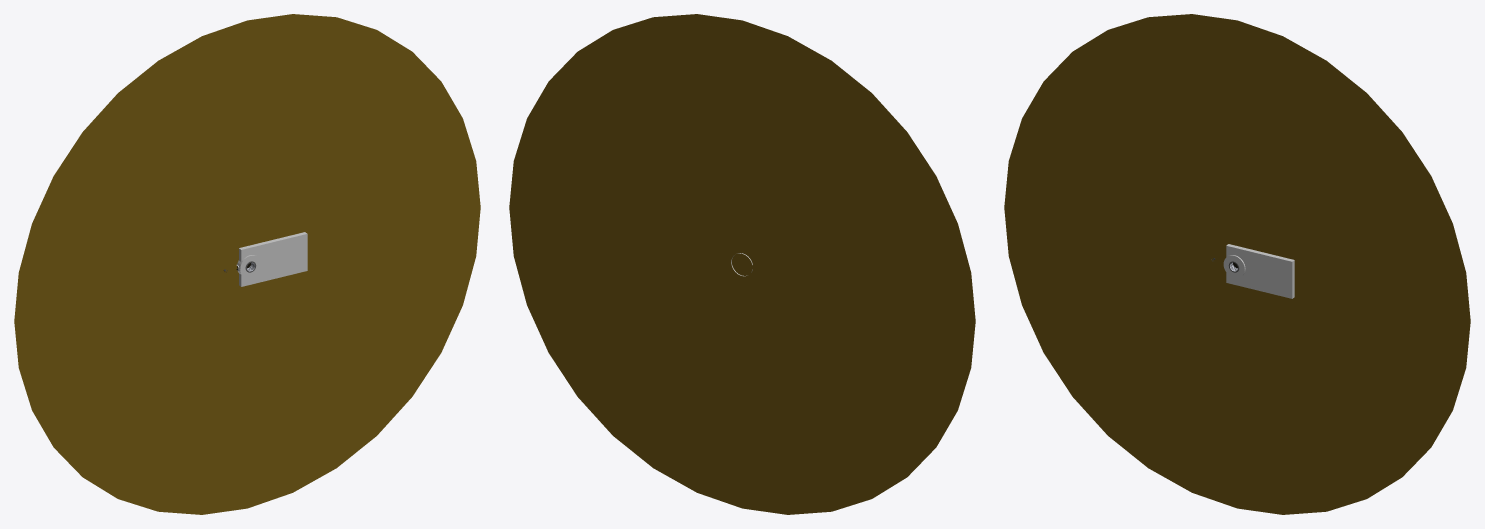
Rendered from lobby.obj.
The picture shows the model from 3 angles, left to right: view 1: azimuth 30°, elevation 25°; view 2: azimuth 150°, elevation 25°; view 3: azimuth 330°, elevation 25°; orthographic projection.
Visible parts, largest first — view 1: Circle, Cube.001; view 2: Circle; view 3: Circle, Cube.001.
Part boxes in pixels (x1,y1,x2,y2): Circle: [14, 14, 480, 514]; Cube.001: [237, 232, 307, 286]; Circle: [509, 14, 975, 514]; Circle: [1004, 14, 1470, 514]; Cube.001: [1223, 244, 1294, 298].
Bounding box in the file's own units: 1561 × 1561 × 27.4.
